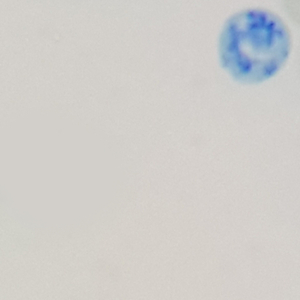aggregate reticulocyte: (216, 6, 294, 86)
